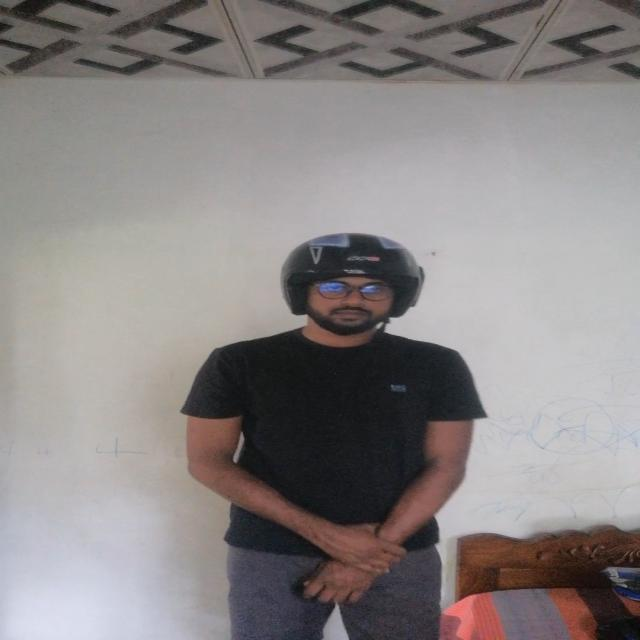Helmet_Wearer: (258, 230, 438, 365)
Person: (177, 226, 478, 640)
